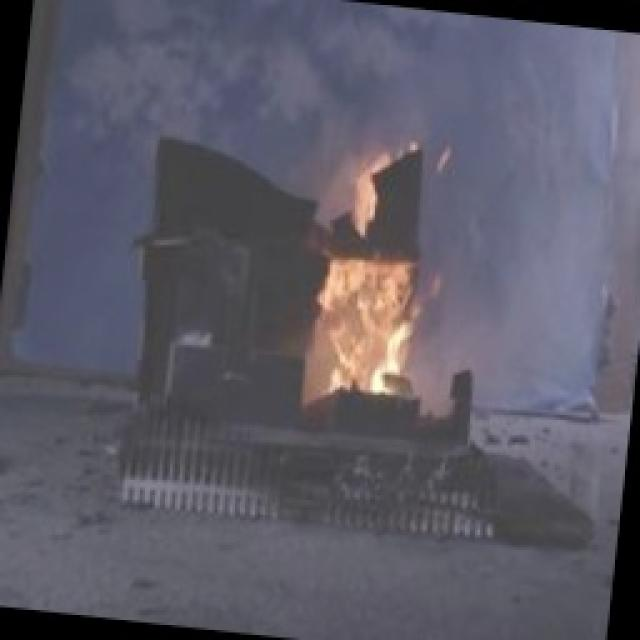fire: (271, 135, 464, 400)
